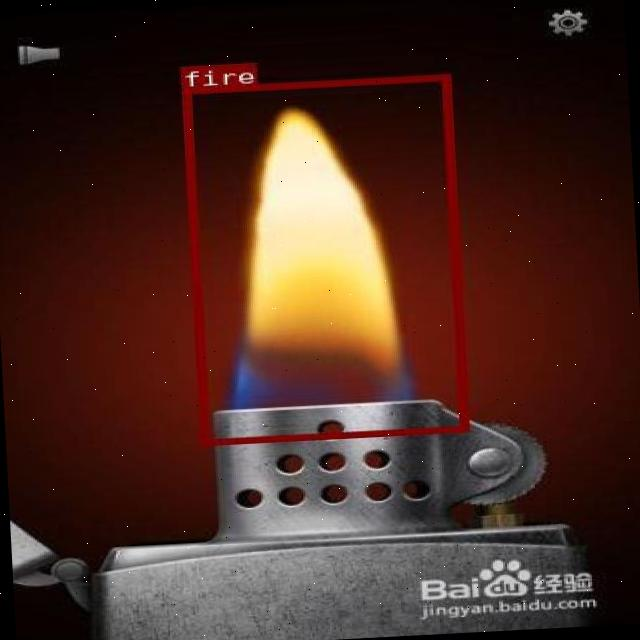fire: (180, 73, 467, 446)
